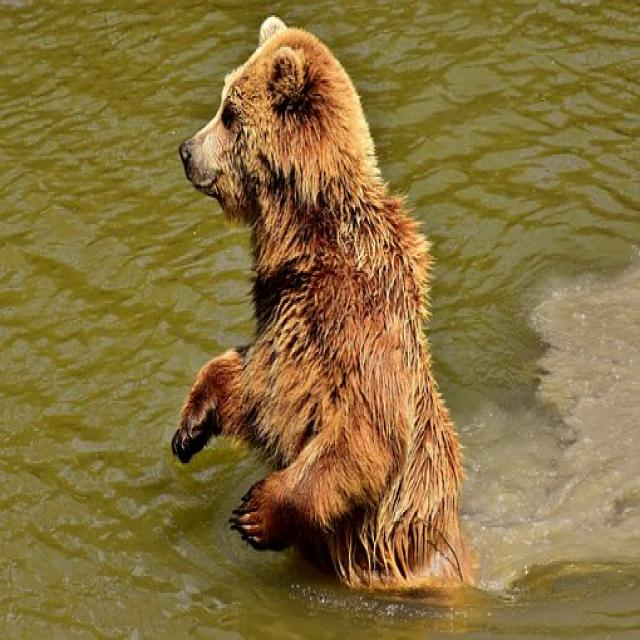Bear: (169, 19, 479, 595)
